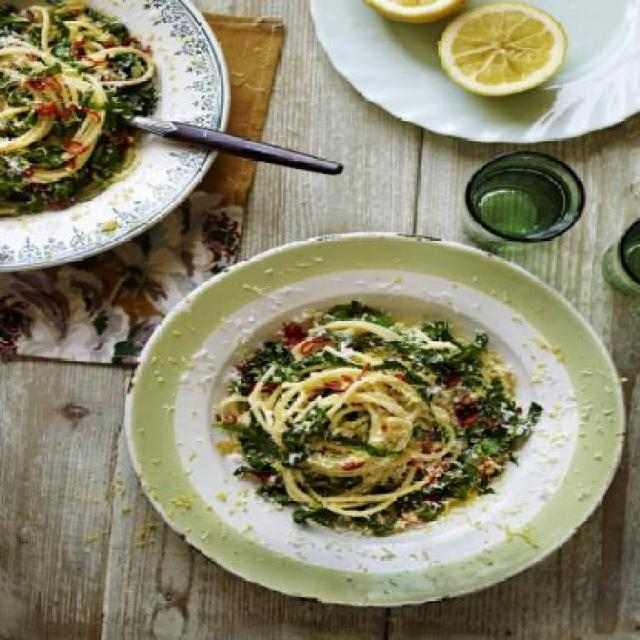Oil pasta: (204, 246, 604, 517)
